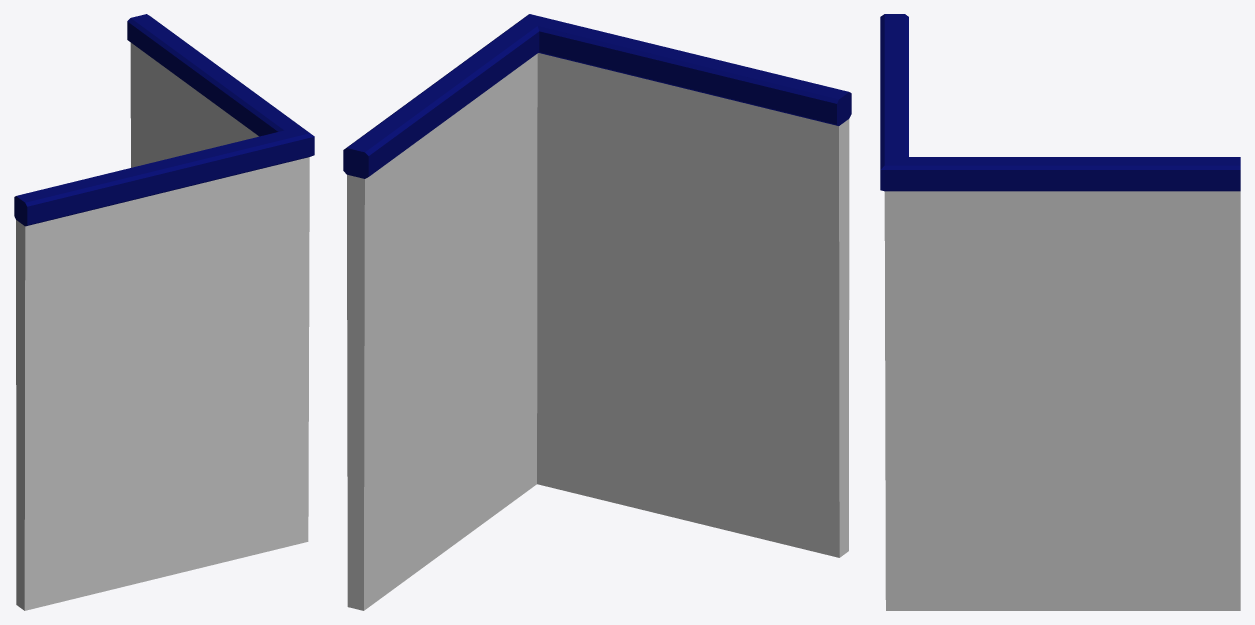
File: wall_7.fbx
3 views of the same model, side by side, from view 1: azimuth 30°, elevation 25°; view 2: azimuth 150°, elevation 25°; view 3: azimuth 270°, elevation 25° (orthographic). The views are drawn at different scales.
Parts seen in each view (by area): view 1: WALL_2.001; view 2: WALL_2.001; view 3: WALL_2.001.
Boxes of the visible parts, box(x1,y1,x2,y2) form: WALL_2.001: box(14, 14, 314, 610); WALL_2.001: box(343, 14, 851, 610); WALL_2.001: box(880, 14, 1240, 610).
Bounding box in the file's own units: 3.55 × 4.83 × 3.53.
